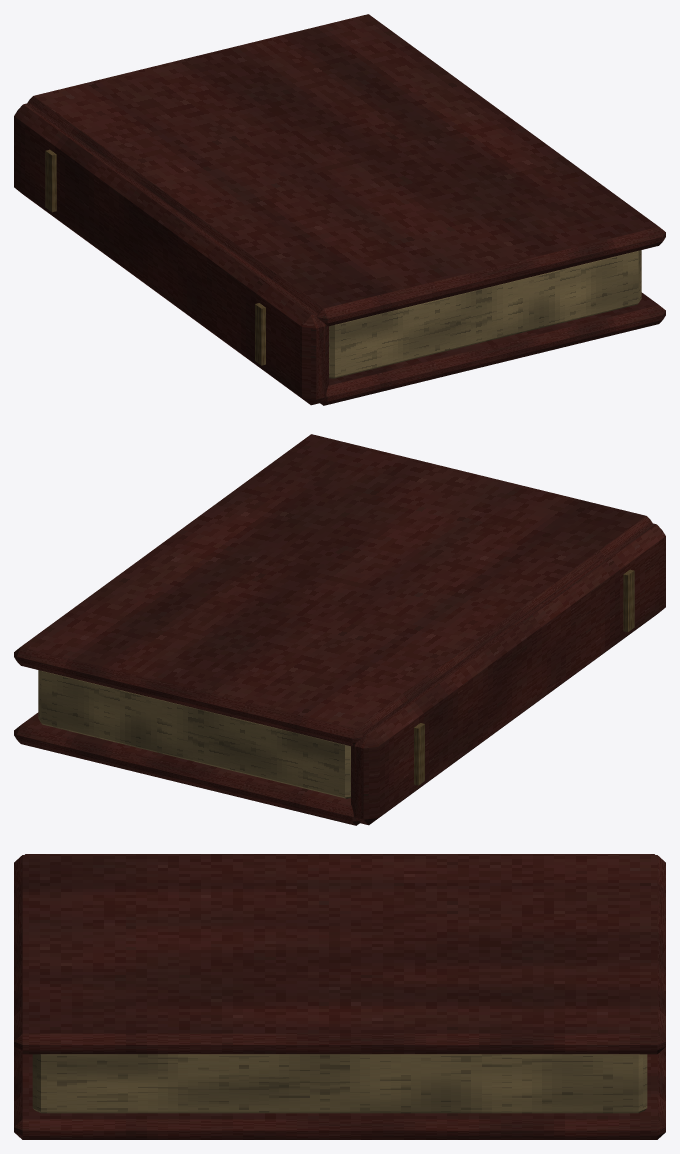
The model's file is level_loose_book_worn.glb.
3 renders of one model, top to bottom at view 1: azimuth 30°, elevation 25°; view 2: azimuth 150°, elevation 25°; view 3: azimuth 270°, elevation 25°, orthographic. The views are drawn at different scales.
Visible parts, largest first — view 1: level_loose_book_worn; view 2: level_loose_book_worn; view 3: level_loose_book_worn.
Boxes of the visible parts, <box> form: level_loose_book_worn: <box>14,14,665,405</box>; level_loose_book_worn: <box>14,434,665,825</box>; level_loose_book_worn: <box>14,854,665,1139</box>.
Bounding box in the file's own units: 0.162 × 0.041 × 0.228.
3 materials, 3 textured.
